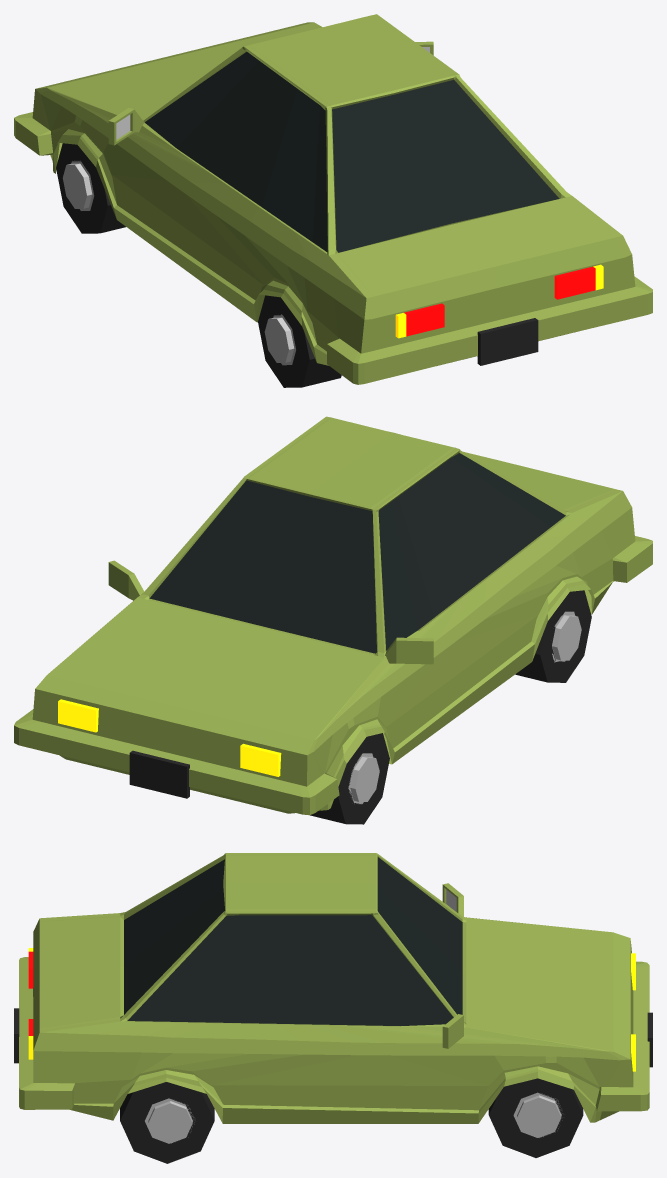
The model's file is car.glb.
3 views of the same model, one above another, from view 1: azimuth 30°, elevation 25°; view 2: azimuth 150°, elevation 25°; view 3: azimuth 270°, elevation 25° (orthographic). The views are drawn at different scales.
Parts seen in each view (by area): view 1: Cube.001, Cube.002, Cube.003, Cube.006, Cube; view 2: Cube.001, Cube.002, Cube.005, Cube, Cube.004; view 3: Cube.001, Cube.002, Cube, Cube.003.
Part boxes in pixels (x1,y1,x2,y2): Cube.001: (14, 14, 652, 384); Cube.002: (56, 143, 341, 387); Cube.003: (395, 264, 603, 338); Cube.006: (477, 318, 538, 365); Cube: (108, 41, 433, 145); Cube.001: (14, 416, 652, 815); Cube.002: (310, 590, 591, 824); Cube.005: (129, 750, 189, 798); Cube: (108, 560, 433, 664); Cube.004: (58, 699, 281, 776); Cube.001: (19, 853, 649, 1123); Cube.002: (120, 1078, 583, 1163); Cube: (442, 883, 463, 1048); Cube.003: (28, 948, 33, 1059).
Bounding box in the file's own units: 2.17 × 1.53 × 4.05.
